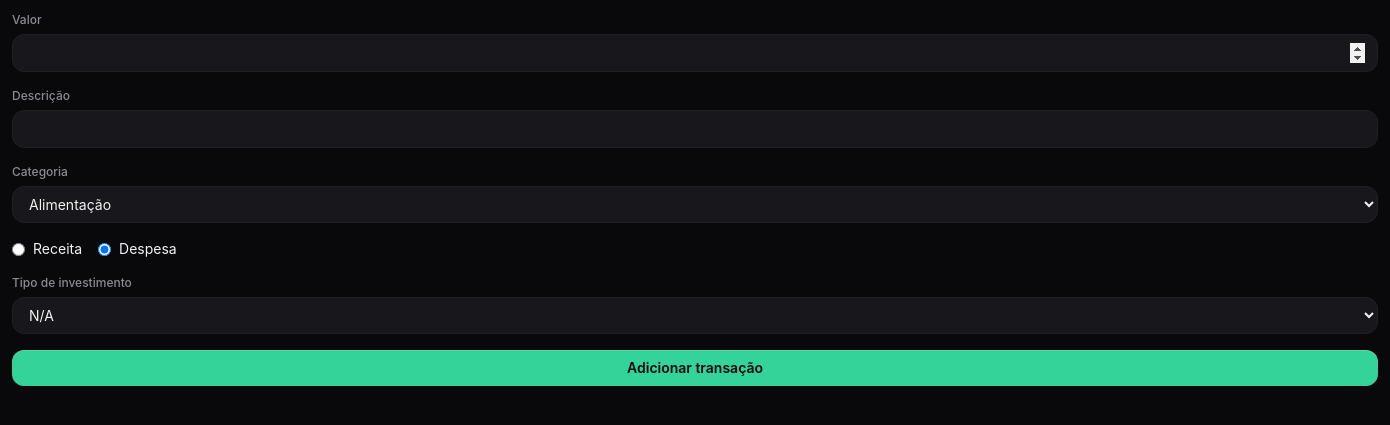
TransactionForm › shows a validation error for a non-positive value
This screenshot has width=1390, height=425.
Type "-5" into the number field labelled "Valor" at (695, 53), box x1=12 y1=34 x2=1378 y2=72
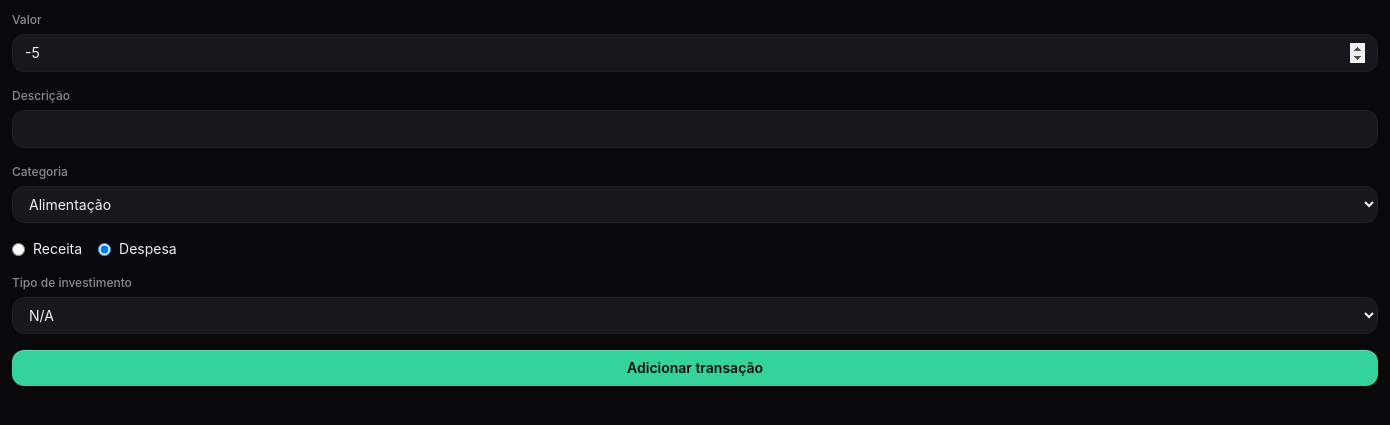
Type "Teste" into the field labelled "Descrição" at (695, 129), box x1=12 y1=110 x2=1378 y2=148
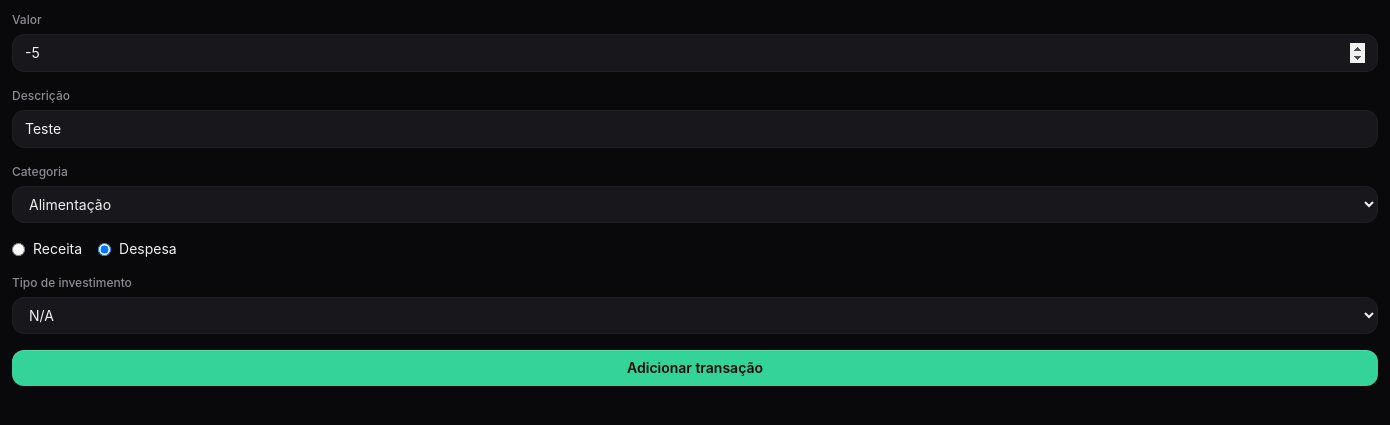
Click the button "Adicionar transação" at (695, 368), box x1=12 y1=350 x2=1378 y2=386
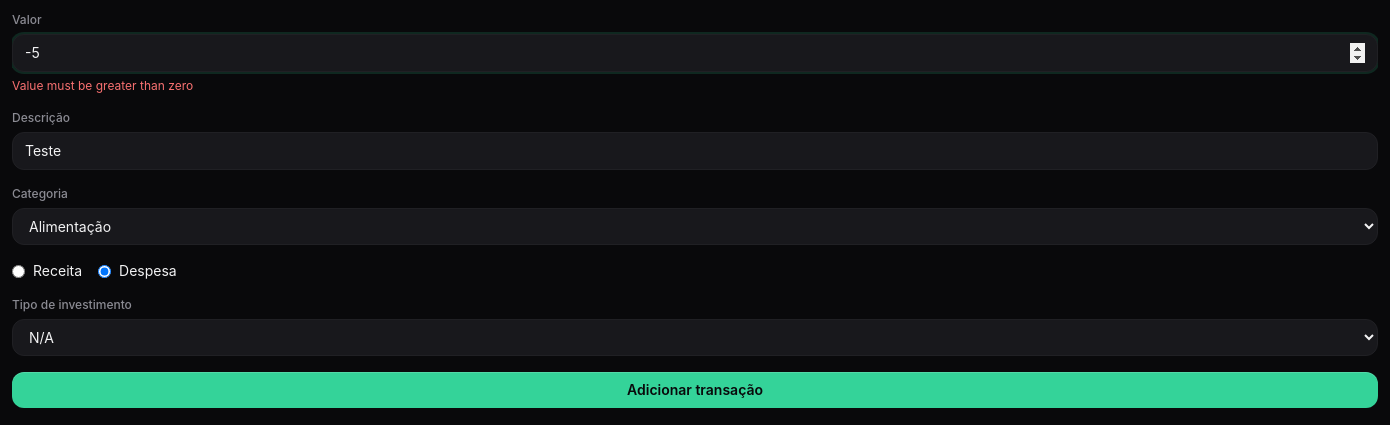
Expected: the text "Value must be greater than zero" is shown, x1=12 y1=78 x2=193 y2=93
